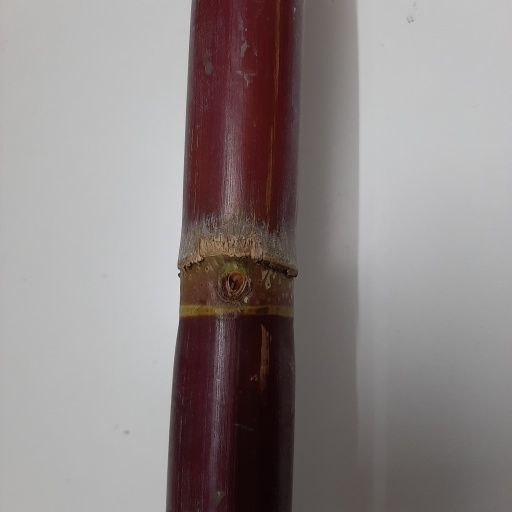Damage_Bud: (224, 271, 245, 298)
